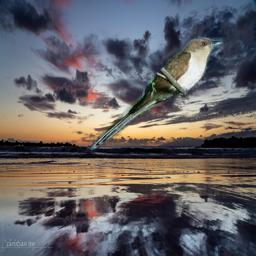Cuckoo: (86, 36, 227, 155)
